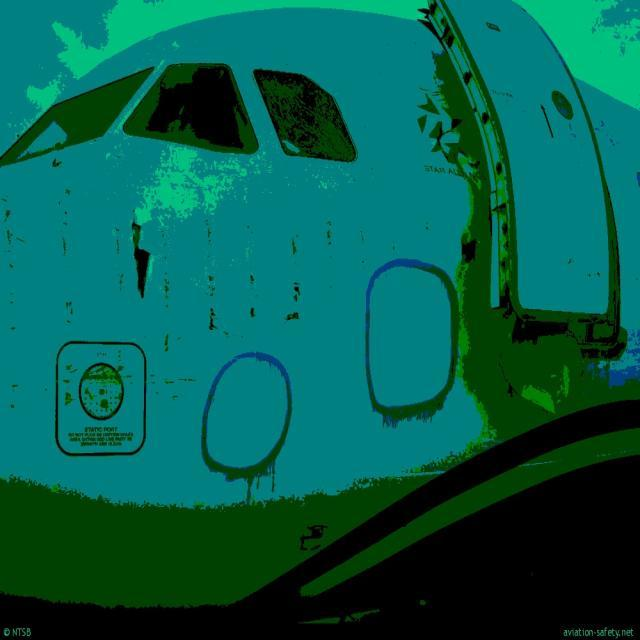crack: (125, 214, 157, 308)
